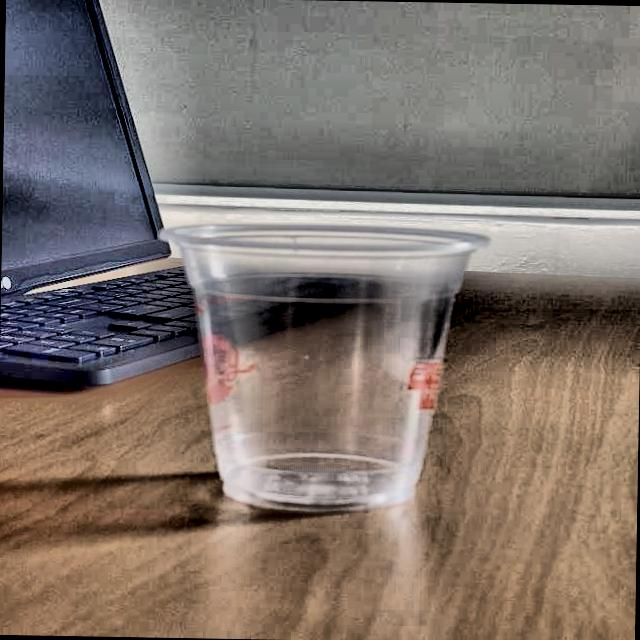plastic cup: (152, 219, 489, 516)
